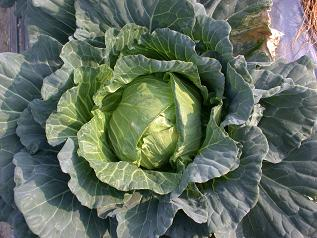cabbage: (107, 70, 202, 171)
